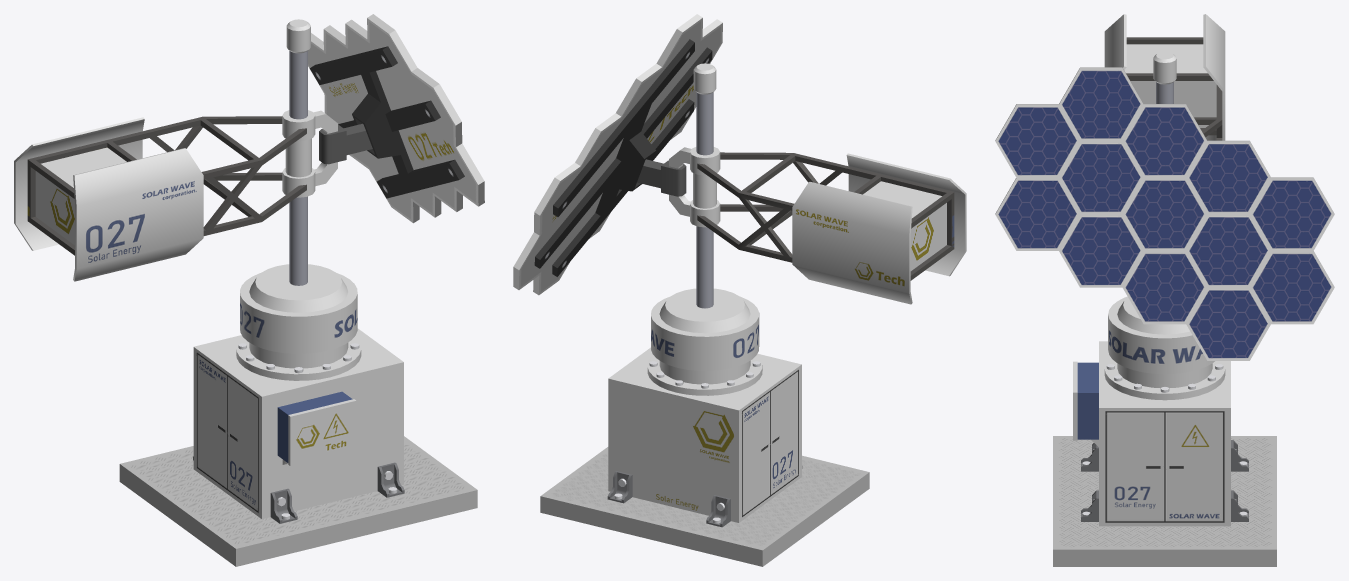
The model's file is simple_solar_station_1.glb.
3 views of the same model, side by side, from view 1: azimuth 30°, elevation 25°; view 2: azimuth 150°, elevation 25°; view 3: azimuth 270°, elevation 25° (orthographic). The views are drawn at different scales.
Parts seen in each view (by area): view 1: SolarOneBody, SolarOneRotatePannel; view 2: SolarOneBody, SolarOneRotatePannel; view 3: SolarOneRotatePannel, SolarOneBody.
Boxes of the visible parts, box(x1,y1,x2,y2) form: SolarOneBody: box(119, 19, 477, 566); SolarOneRotatePannel: box(14, 14, 484, 281); SolarOneBody: box(540, 63, 869, 566); SolarOneRotatePannel: box(513, 14, 966, 304); SolarOneRotatePannel: box(995, 14, 1334, 360); SolarOneBody: box(1053, 51, 1276, 566).
Size of the model in its own units: 8.12 by 9.48 by 6.25.
Materials: 1 (1 with a texture image).
